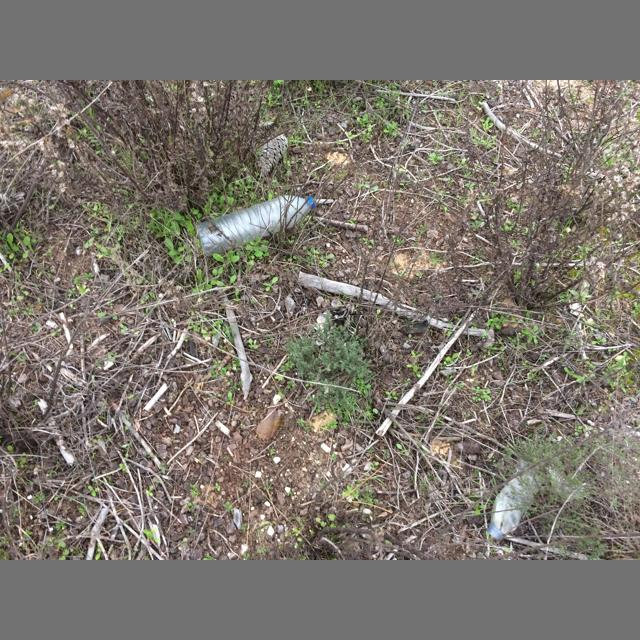litter: (196, 195, 315, 256), (485, 474, 539, 538)
